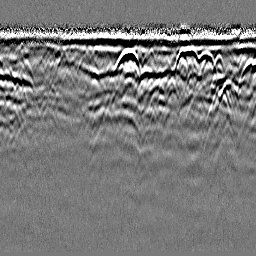cavity: (110, 46, 142, 79)
